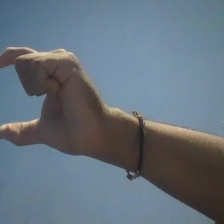G: (1, 44, 104, 163)
